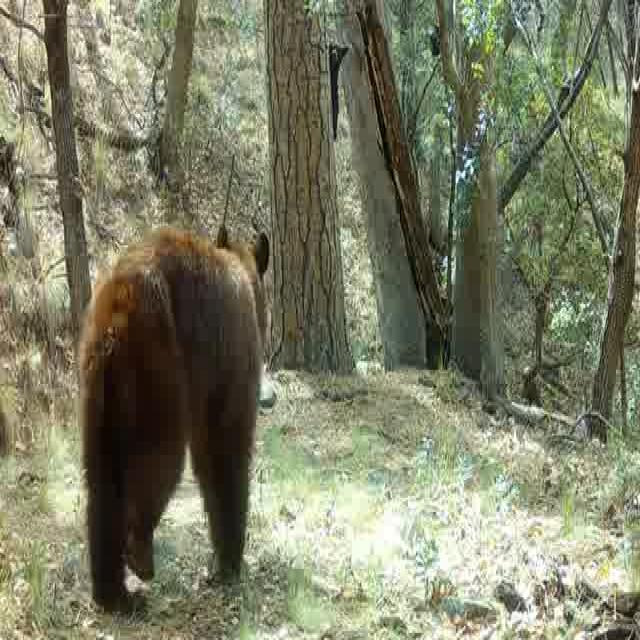bear face: (82, 223, 270, 596), (328, 41, 349, 125)
